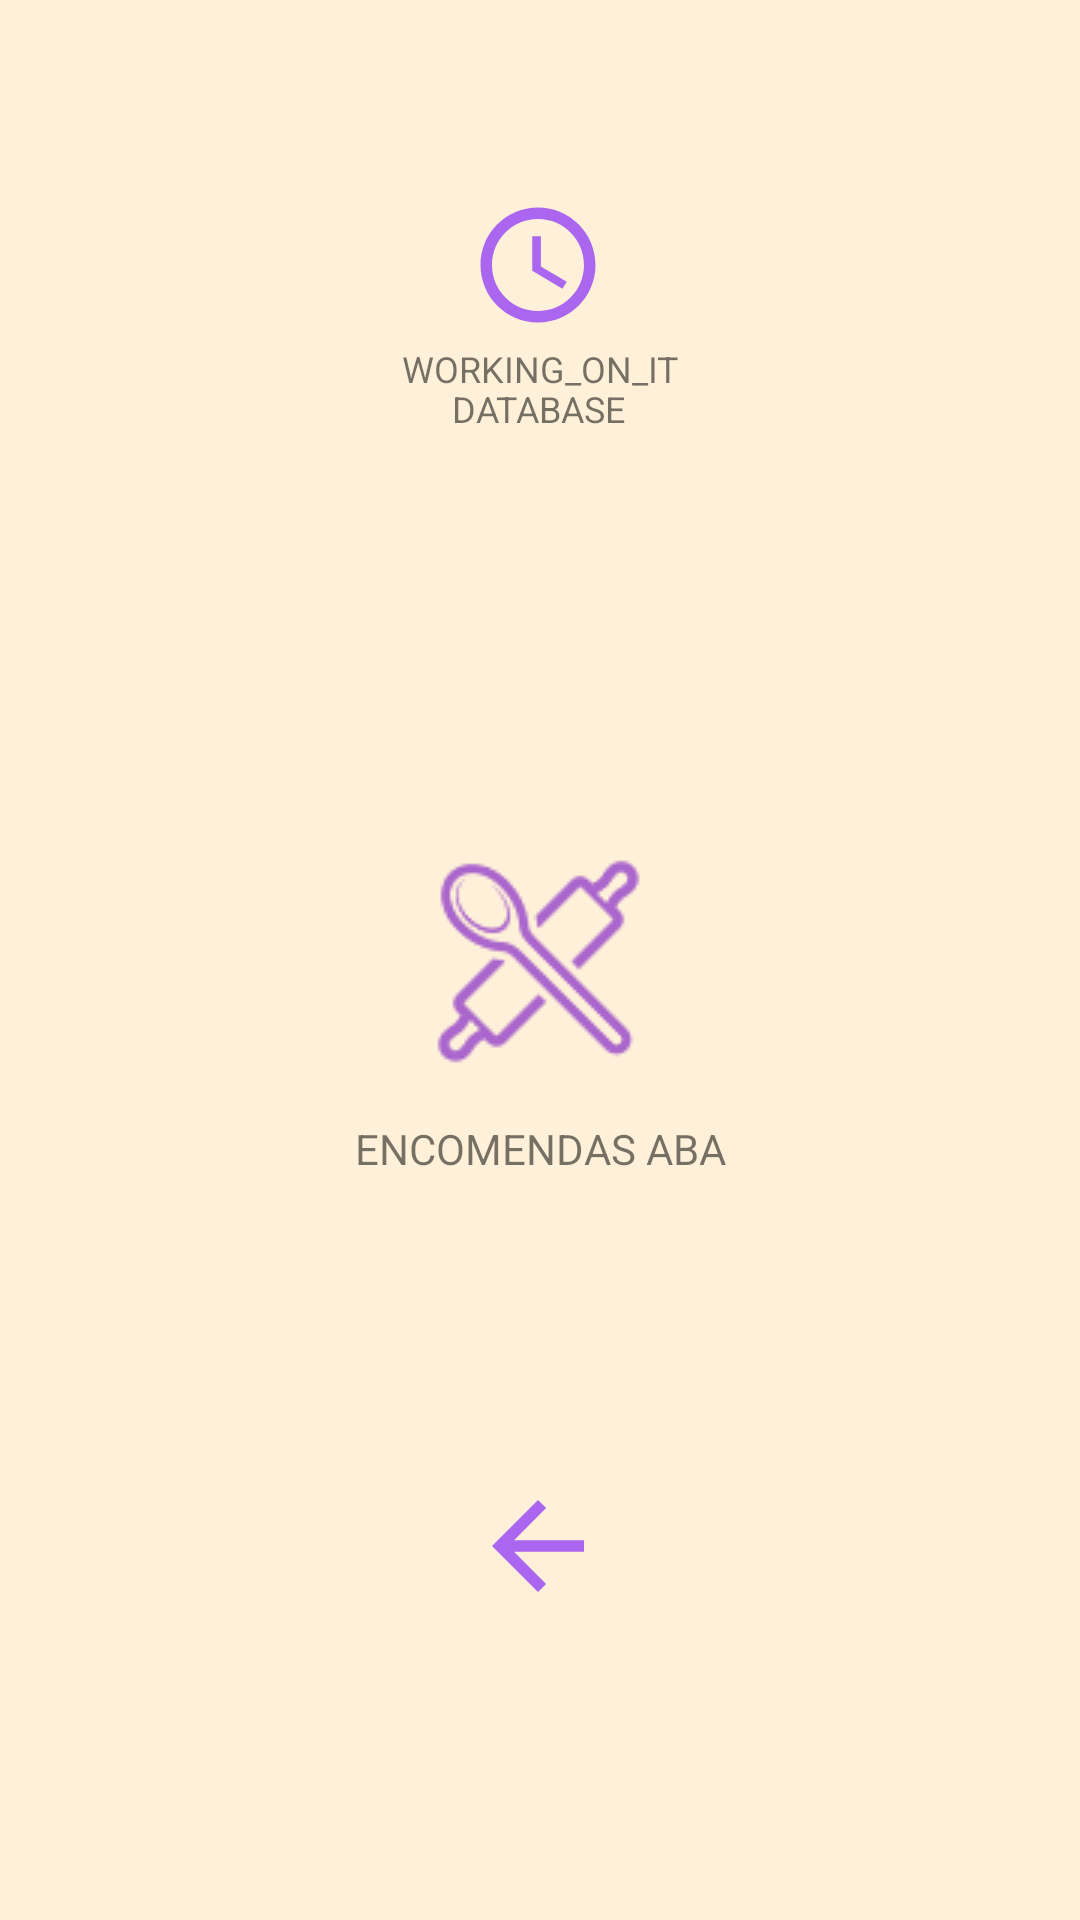

Icon bounding boxes for this 1080x1920 phone screenshot, format (x1, y1, x2, y2):
back arrow: (492, 1500, 584, 1592)
timer: (480, 207, 596, 323)
